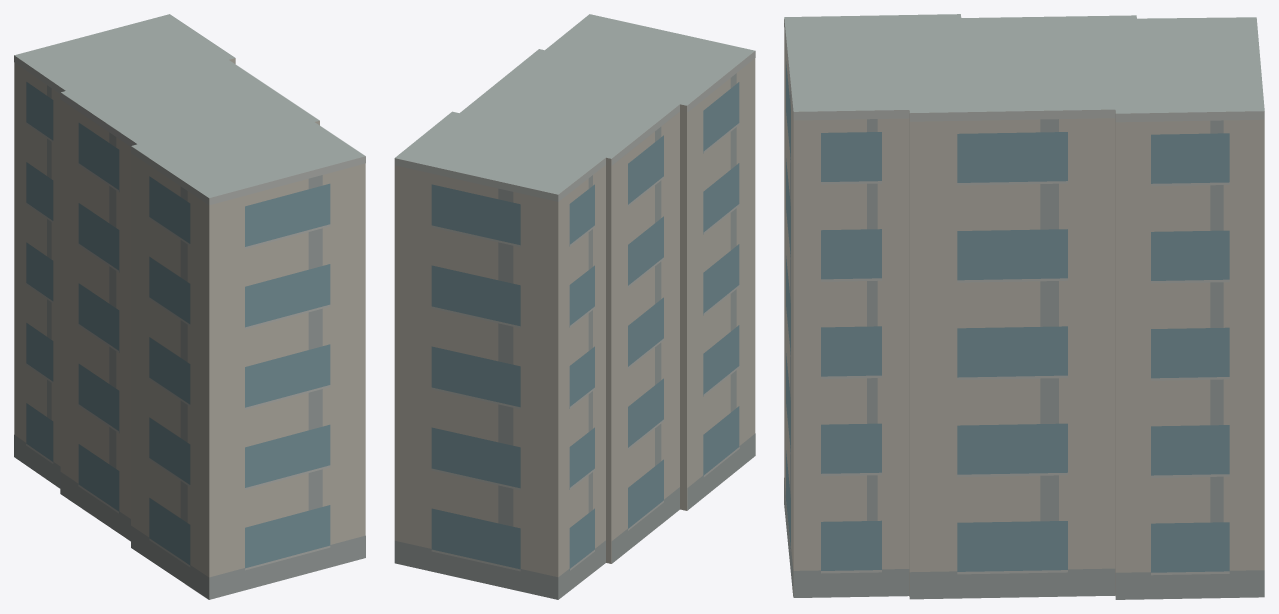
The model's file is survey-upis-33006754.glb.
3 renders of one model, left to right at view 1: azimuth 30°, elevation 25°; view 2: azimuth 150°, elevation 25°; view 3: azimuth 270°, elevation 25°, orthographic. The views are drawn at different scales.
Visible parts, largest first — view 1: survey-upis-33006754.tmp; view 2: survey-upis-33006754.tmp; view 3: survey-upis-33006754.tmp.
Boxes of the visible parts, left/top/right/bottom form: survey-upis-33006754.tmp: left=14, top=14, right=365, bottom=599; survey-upis-33006754.tmp: left=394, top=14, right=755, bottom=599; survey-upis-33006754.tmp: left=784, top=14, right=1264, bottom=599.
Bounding box in the file's own units: 6.06 × 13.75 × 12.33.
